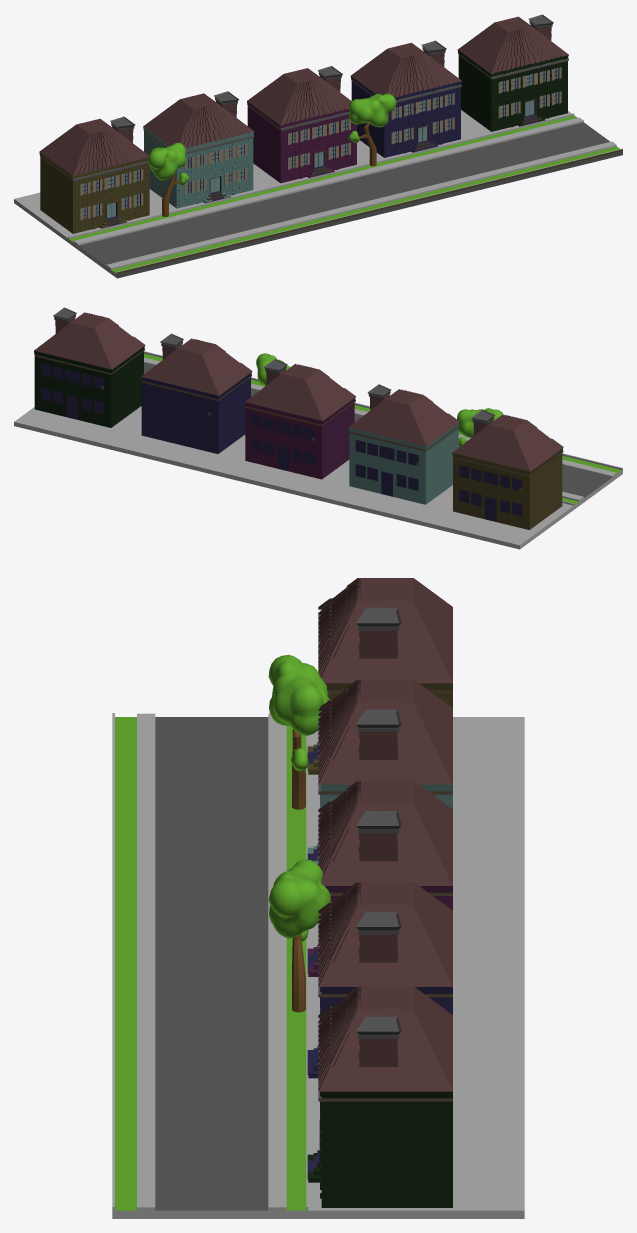
The model's file is VecindarioColorido.fbx.
3 renders of one model, top to bottom at view 1: azimuth 30°, elevation 25°; view 2: azimuth 150°, elevation 25°; view 3: azimuth 270°, elevation 25°, orthographic. The views are drawn at different scales.
Visible parts, largest first — view 1: Calle, CasaA, CasaE, CasaC, CasaD, CasaB, ArbolSimon2, ArbolSimon1; view 2: Calle, CasaA, CasaE, CasaD, CasaC, CasaB, ArbolSimon1, ArbolSimon2; view 3: Calle, CasaE, CasaD, CasaB, CasaA, CasaC, ArbolSimon1, ArbolSimon2.
Boxes of the visible parts, x1,y1,x2,y2 form: Calle: (14, 110, 622, 278); CasaA: (39, 116, 149, 233); CasaE: (457, 14, 568, 131); CasaC: (247, 66, 356, 183); CasaD: (350, 40, 461, 157); CasaB: (143, 91, 254, 208); ArbolSimon2: (349, 93, 396, 166); ArbolSimon1: (148, 142, 188, 216); Calle: (14, 351, 622, 549); CasaA: (452, 409, 563, 529); CasaE: (34, 307, 145, 427); CasaD: (141, 333, 252, 453); CasaC: (244, 359, 356, 479); CasaB: (348, 384, 459, 504); ArbolSimon1: (457, 408, 503, 446); ArbolSimon2: (256, 353, 290, 385); Calle: (112, 713, 524, 1218); CasaE: (307, 986, 452, 1207); CasaD: (307, 882, 452, 1078); CasaB: (307, 679, 452, 864); CasaA: (307, 578, 452, 774); CasaC: (307, 780, 452, 976); ArbolSimon1: (268, 654, 329, 809); ArbolSimon2: (268, 859, 330, 1012).
Size of the model in its own units: 294 by 50.25 by 104.
